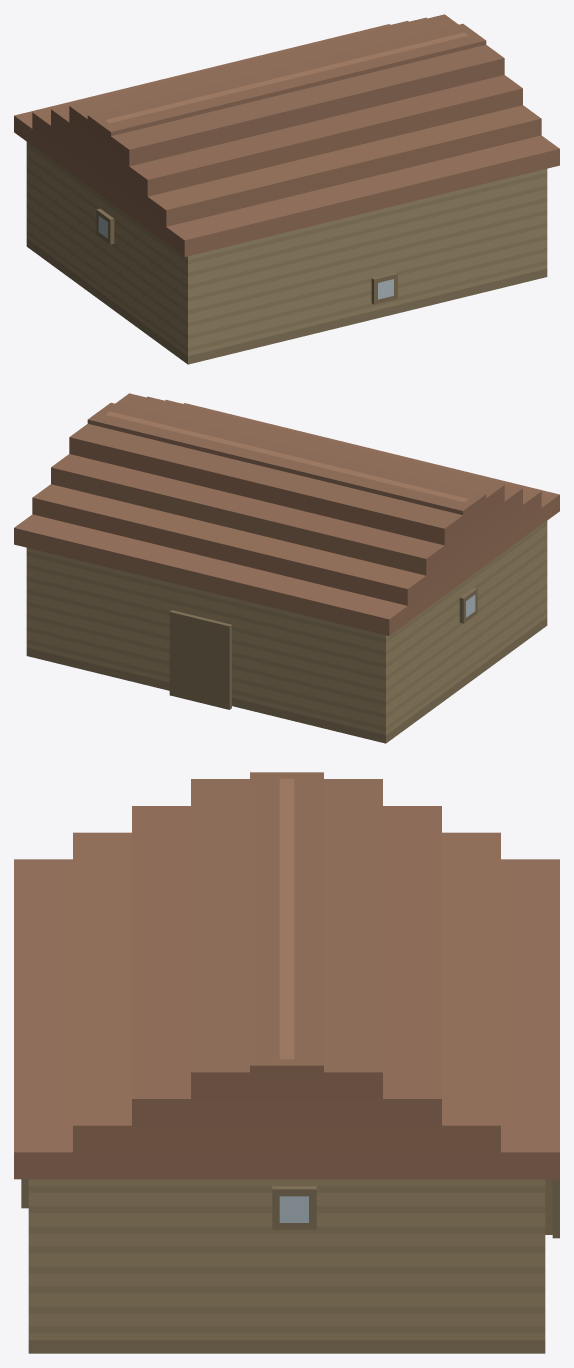
Rendered from lonja_pescado_01.glb.
3 renders of one model, top to bottom at view 1: azimuth 30°, elevation 25°; view 2: azimuth 150°, elevation 25°; view 3: azimuth 270°, elevation 25°, orthographic. The views are drawn at different scales.
Visible parts, largest first — view 1: lonja_pescado_01; view 2: lonja_pescado_01; view 3: lonja_pescado_01.
Boxes of the visible parts, x1,y1,x2,y2 form: lonja_pescado_01: [14, 14, 559, 364]; lonja_pescado_01: [14, 393, 559, 743]; lonja_pescado_01: [14, 772, 559, 1353].
Bounding box in the file's own units: 9.4 × 4.4 × 7.4.
